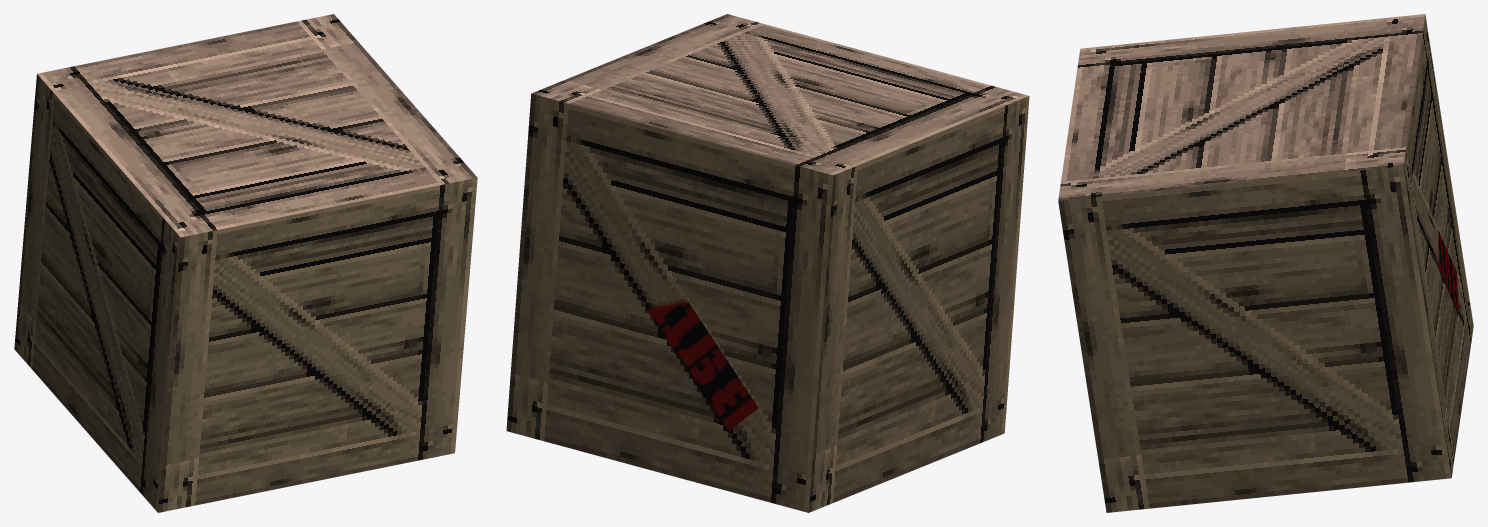
The model's file is primary_141.glb.
3 views of the same model, side by side, from view 1: azimuth 30°, elevation 25°; view 2: azimuth 150°, elevation 25°; view 3: azimuth 270°, elevation 25° (orthographic). The views are drawn at different scales.
Parts seen in each view (by area): view 1: Object; view 2: Object; view 3: Object.
Boxes of the visible parts, x1,y1,x2,y2 form: Object: (14,14,477,512); Object: (506,14,1029,512); Object: (1058,14,1473,512).
Size of the model in its own units: 1.08 by 1.14 by 1.2.
7 materials, 7 textured.
